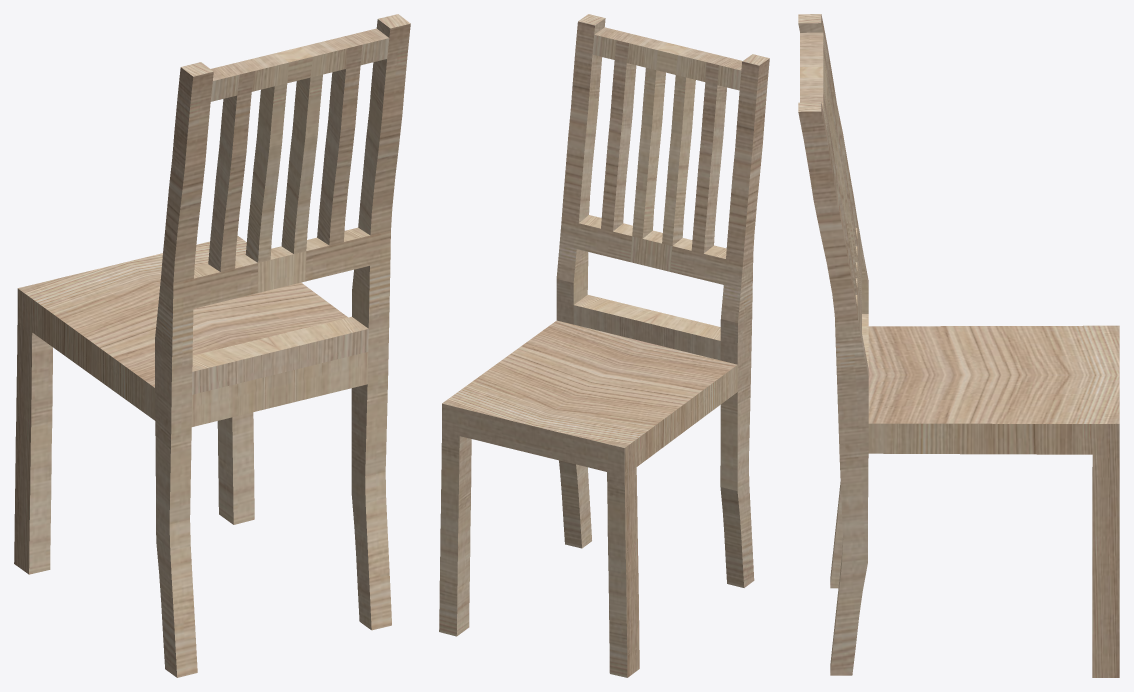
File: Chair.glb
The picture shows the model from 3 angles, left to right: view 1: azimuth 30°, elevation 25°; view 2: azimuth 150°, elevation 25°; view 3: azimuth 270°, elevation 25°; orthographic projection. The views are drawn at different scales.
Parts seen in each view (by area): view 1: Chair; view 2: Chair; view 3: Chair.
Boxes of the visible parts, left/top/right/bottom form: Chair: left=14, top=14, right=410, bottom=677; Chair: left=439, top=14, right=769, bottom=677; Chair: left=798, top=14, right=1119, bottom=677.
Bounding box in the file's own units: 0.5496 × 1.43 × 0.7373.
Materials: 1 (1 with a texture image).
